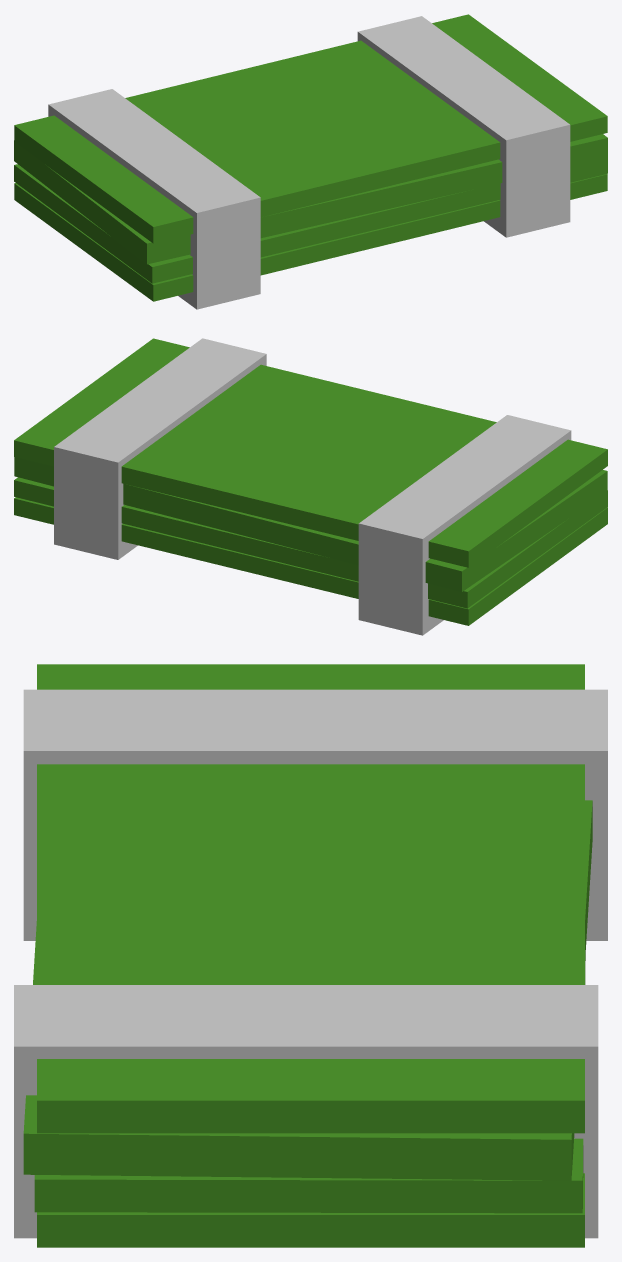
File: Cah2.fbx
3 renders of one model, top to bottom at view 1: azimuth 30°, elevation 25°; view 2: azimuth 150°, elevation 25°; view 3: azimuth 270°, elevation 25°, orthographic. The views are drawn at different scales.
Visible parts, largest first — view 1: Cube_7; view 2: Cube_7; view 3: Cube_7.
Boxes of the visible parts, left/top/right/bottom form: Cube_7: left=14, top=14, right=607, bottom=309; Cube_7: left=14, top=338, right=607, bottom=635; Cube_7: left=14, top=664, right=607, bottom=1247.
Size of the model in its own units: 105 by 21.29 by 59.59.
